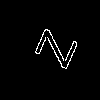Z: (25, 23, 79, 70)
